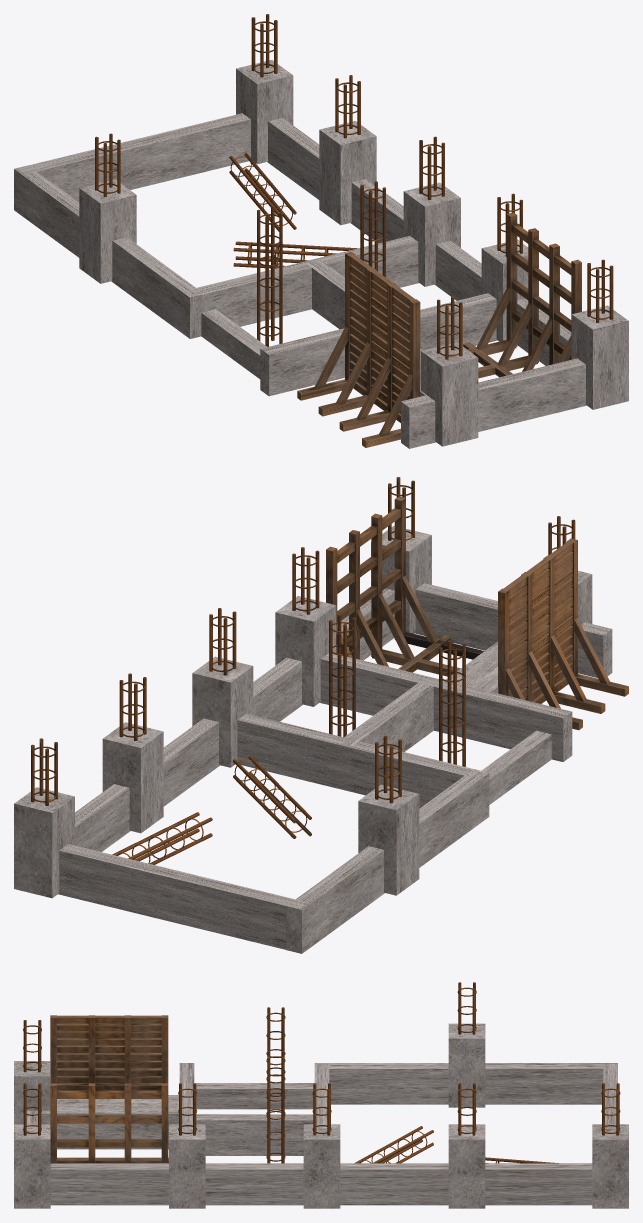
The model's file is Construc.fbx.
3 views of the same model, one above another, from view 1: azimuth 30°, elevation 25°; view 2: azimuth 150°, elevation 25°; view 3: azimuth 270°, elevation 25° (orthographic). The views are drawn at different scales.
Visible parts, largest first — view 1: Construc; view 2: Construc; view 3: Construc.
Boxes of the visible parts, x1,y1,x2,y2 form: Construc: (14,14,628,448); Construc: (14,477,628,953); Construc: (14,982,628,1208).
Size of the model in its own units: 9.22 by 4.38 by 20.65.
